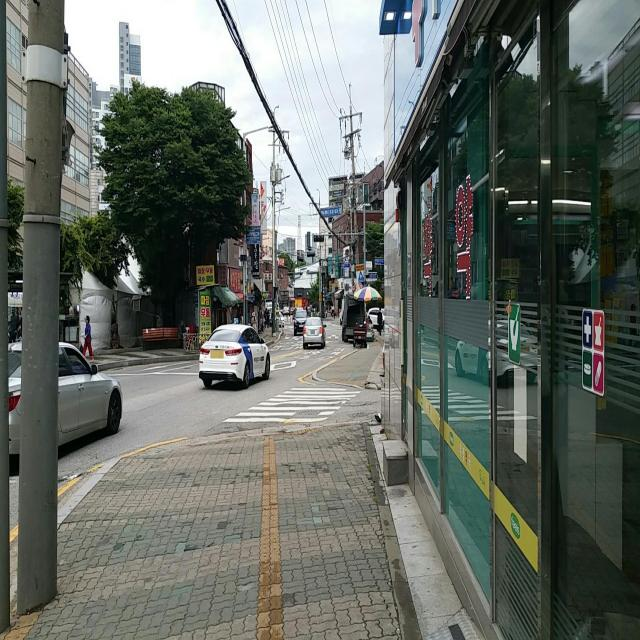횡단보도: (221, 387, 362, 423)
